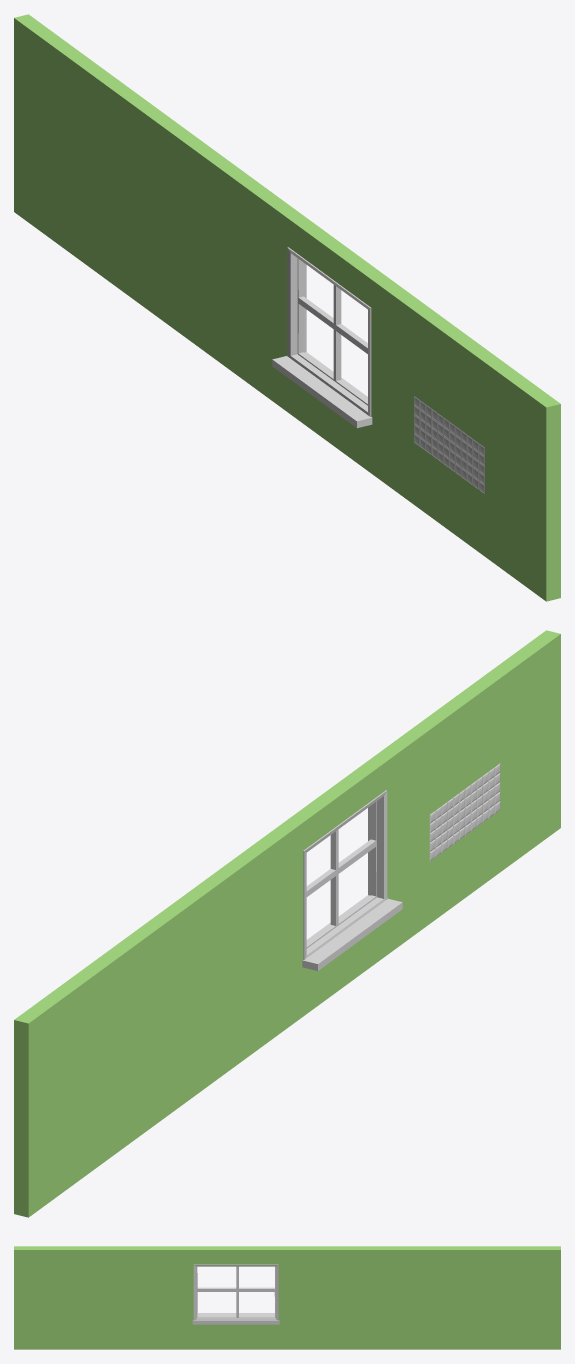
The model's file is divar.fbx.
The picture shows the model from 3 angles, top to bottom: view 1: azimuth 30°, elevation 25°; view 2: azimuth 150°, elevation 25°; view 3: azimuth 270°, elevation 25°; orthographic projection. The views are drawn at different scales.
Visible parts, largest first — view 1: wall, windows, kafel, pencere alt;; view 2: wall, windows, kafel, pencere alt;; view 3: wall, windows, pencere alt;.
Boxes of the visible parts, bbox=[...] form: wall: bbox=[14, 14, 560, 601]; windows: bbox=[287, 247, 371, 416]; kafel: bbox=[414, 396, 484, 493]; pencere alt;: bbox=[272, 356, 372, 428]; wall: bbox=[14, 630, 560, 1217]; windows: bbox=[303, 790, 387, 959]; kafel: bbox=[429, 763, 500, 861]; pencere alt;: bbox=[302, 898, 402, 970]; wall: bbox=[14, 1246, 560, 1349]; windows: bbox=[193, 1264, 278, 1320]; pencere alt;: bbox=[192, 1313, 279, 1324].
Size of the model in its own units: 5.96 by 33.78 by 168.
